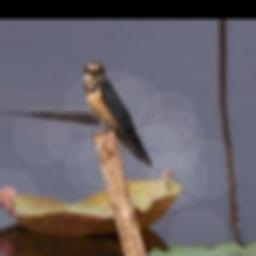Swallow: (82, 59, 154, 170)
